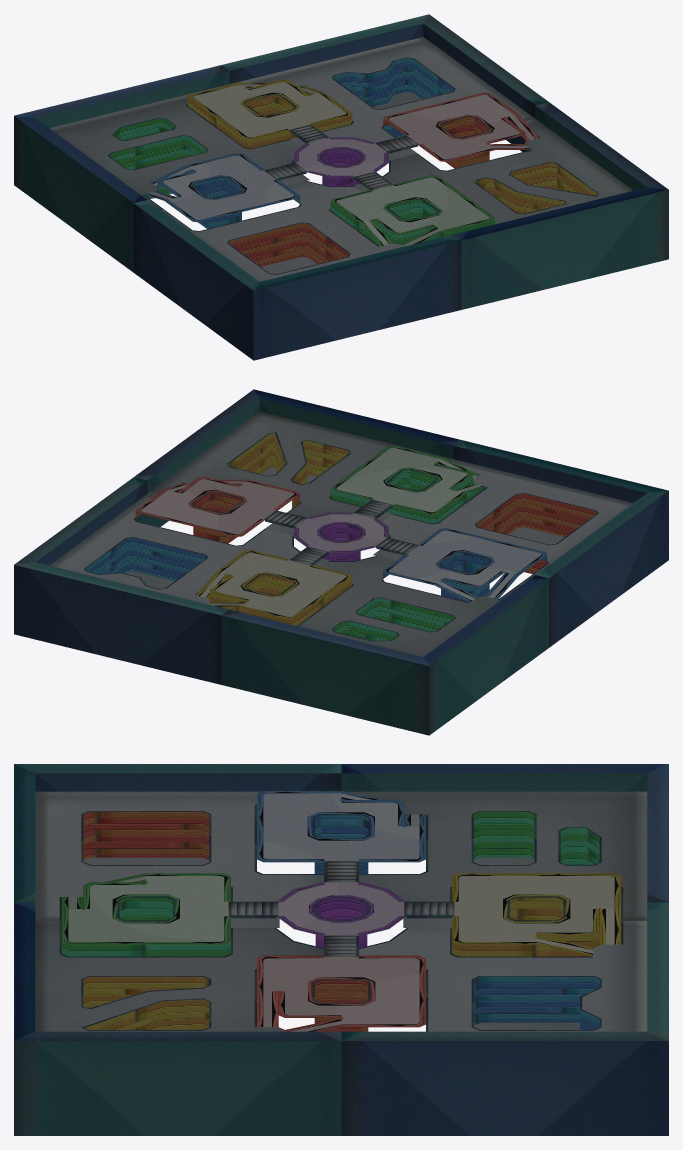
3 views of the same model, one above another, from view 1: azimuth 30°, elevation 25°; view 2: azimuth 150°, elevation 25°; view 3: azimuth 270°, elevation 25° (orthographic). The views are drawn at different scales.
Parts seen in each view (by area): view 1: polygon13.029, polygon14.031, polygon21.011, polygon9.027, polygon4.031, polygon7.029, polygon3.032, polygon1.035, polygon8.028, polygon2.027, polygon12.025, polygon6.035 (+5 smaller); view 2: polygon13.029, polygon14.031, polygon21.011, polygon3.032, polygon8.028, polygon2.027, polygon9.027, polygon12.025, polygon4.031, polygon1.035, polygon7.029, polygon6.035 (+5 smaller); view 3: polygon13.029, polygon14.031, polygon21.011, polygon9.027, polygon7.029, polygon12.025, polygon2.027, polygon3.032, polygon4.031, polygon8.028, polygon6.035, polygon1.035 (+5 smaller).
Part boxes in pixels (x1,y1,x2,y2): polygon13.029: [14, 14, 668, 360]; polygon14.031: [49, 37, 632, 281]; polygon21.011: [145, 80, 537, 245]; polygon9.027: [188, 95, 596, 213]; polygon4.031: [336, 177, 489, 246]; polygon7.029: [388, 94, 535, 159]; polygon3.032: [110, 118, 494, 246]; polygon1.035: [157, 58, 453, 228]; polygon8.028: [229, 117, 525, 266]; polygon2.027: [148, 155, 294, 219]; polygon12.025: [193, 82, 346, 137]; polygon6.035: [108, 57, 598, 274]; polygon13.029: [14, 389, 668, 735]; polygon14.031: [50, 412, 633, 656]; polygon21.011: [137, 446, 545, 618]; polygon3.032: [330, 470, 486, 640]; polygon8.028: [135, 492, 596, 573]; polygon2.027: [388, 530, 541, 600]; polygon9.027: [209, 433, 352, 625]; polygon12.025: [200, 552, 346, 616]; polygon4.031: [336, 447, 482, 512]; polygon1.035: [86, 537, 547, 602]; polygon7.029: [141, 479, 294, 534]; polygon6.035: [84, 432, 598, 641]; polygon13.029: [14, 764, 668, 1135]; polygon14.031: [35, 791, 647, 1031]; polygon21.011: [64, 791, 618, 1031]; polygon9.027: [83, 897, 599, 1029]; polygon7.029: [259, 956, 419, 1031]; polygon12.025: [454, 876, 614, 953]; polygon2.027: [263, 793, 419, 861]; polygon3.032: [61, 811, 599, 956]; polygon4.031: [68, 876, 228, 941]; polygon8.028: [83, 811, 368, 1031]; polygon6.035: [59, 804, 623, 1031]; polygon1.035: [314, 815, 599, 1029].
Size of the model in its own units: 33975 by 5438 by 33975.
Materials: 17 (17 with a texture image).
